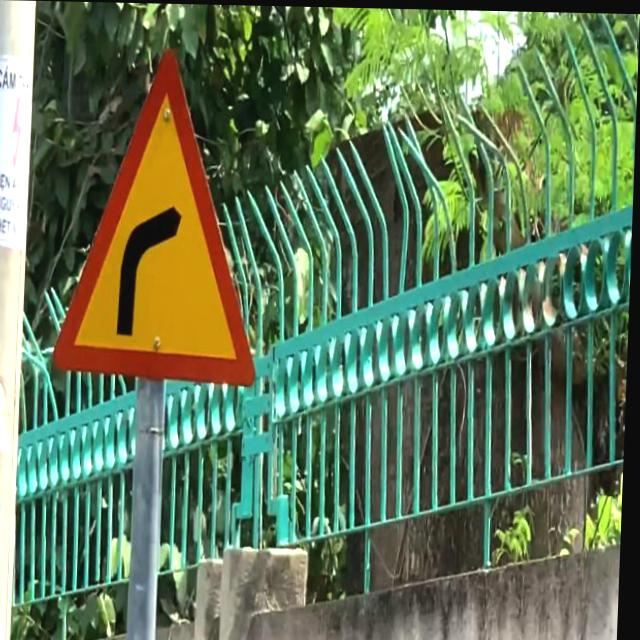cho ngoat nguy hiem vong ben phai: (39, 24, 280, 415)
